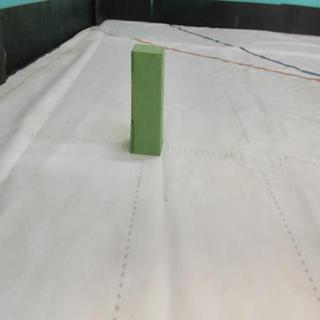greenbox: (131, 42, 165, 158)
